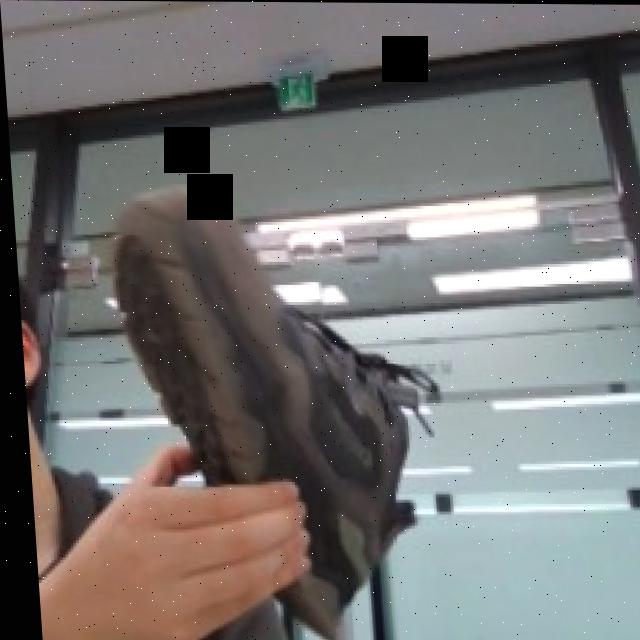shoes: (100, 175, 437, 640)
